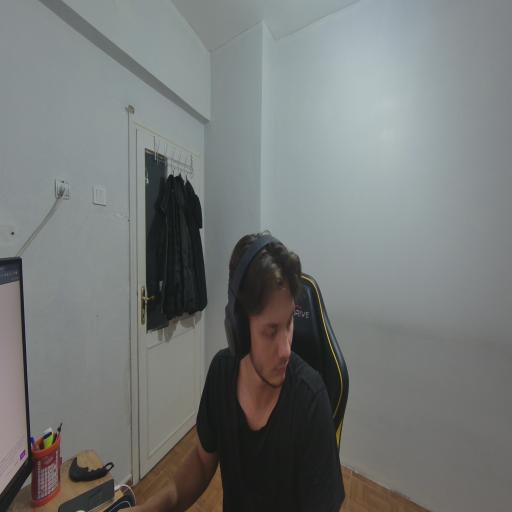cuma-face-v2: (216, 220, 304, 396)
